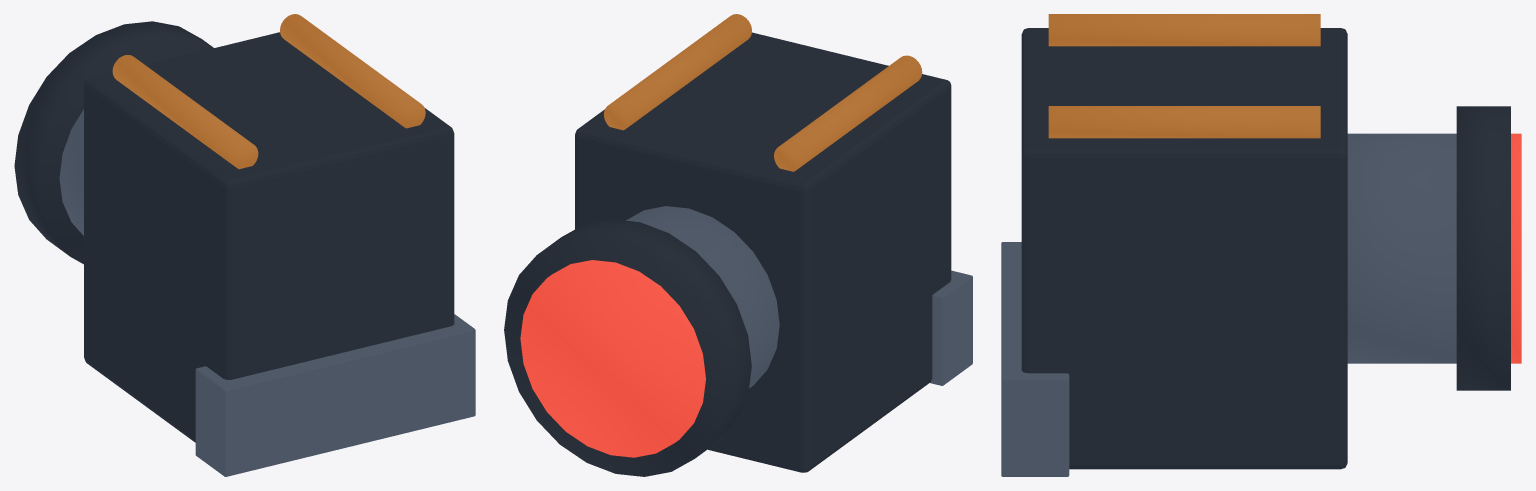
The model's file is motor.glb.
3 renders of one model, left to right at view 1: azimuth 30°, elevation 25°; view 2: azimuth 150°, elevation 25°; view 3: azimuth 270°, elevation 25°, orthographic. The views are drawn at different scales.
Visible parts, largest first — view 1: Cube.084, Cube.085, Cylinder.047, Cylinder.049, Cylinder.050, Cylinder.046; view 2: Cube.084, Cylinder.048, Cylinder.047, Cylinder.046, Cylinder.050, Cylinder.049, Cube.085; view 3: Cube.084, Cylinder.046, Cylinder.047, Cube.085, Cylinder.049, Cylinder.050, Cylinder.048.
Part boxes in pixels (<box>): Cube.084: <box>84,32,454,442</box>; Cube.085: <box>195,314,475,476</box>; Cylinder.047: <box>14,21,213,264</box>; Cylinder.049: <box>280,14,425,128</box>; Cylinder.050: <box>112,55,258,169</box>; Cylinder.046: <box>59,63,149,235</box>; Cube.084: <box>575,32,951,472</box>; Cylinder.048: <box>520,260,705,457</box>; Cylinder.047: <box>504,219,751,476</box>; Cylinder.046: <box>626,206,779,388</box>; Cylinder.050: <box>774,55,922,171</box>; Cylinder.049: <box>604,14,751,130</box>; Cube.085: <box>930,270,972,385</box>; Cube.084: <box>1021,28,1347,469</box>; Cylinder.046: <box>1347,133,1456,363</box>; Cylinder.047: <box>1456,106,1510,390</box>; Cube.085: <box>1001,242,1069,476</box>; Cylinder.049: <box>1048,106,1320,138</box>; Cylinder.050: <box>1048,14,1320,46</box>; Cylinder.048: <box>1511,133,1521,363</box>.
Size of the model in its own units: 2.4 by 2.82 by 3.83.
